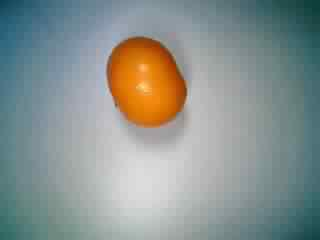orange: (98, 32, 194, 128)
